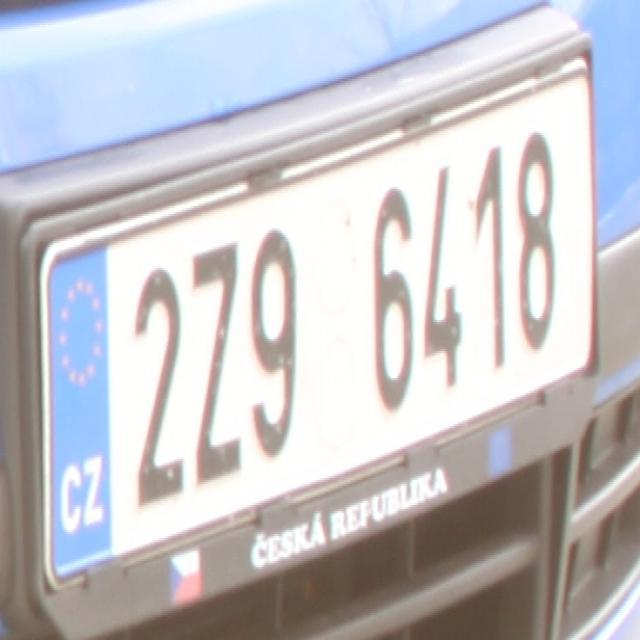1: (472, 147, 510, 370)
2: (135, 266, 182, 505)
4: (422, 166, 465, 389)
6: (372, 185, 414, 420)
8: (513, 126, 556, 352)
9: (250, 224, 296, 463)
Z: (190, 234, 244, 490)
